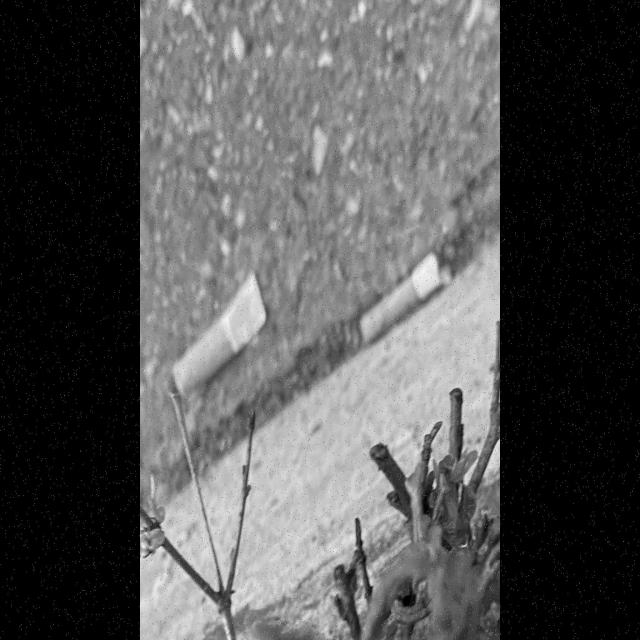other waste: (172, 270, 268, 398), (358, 250, 441, 344)
